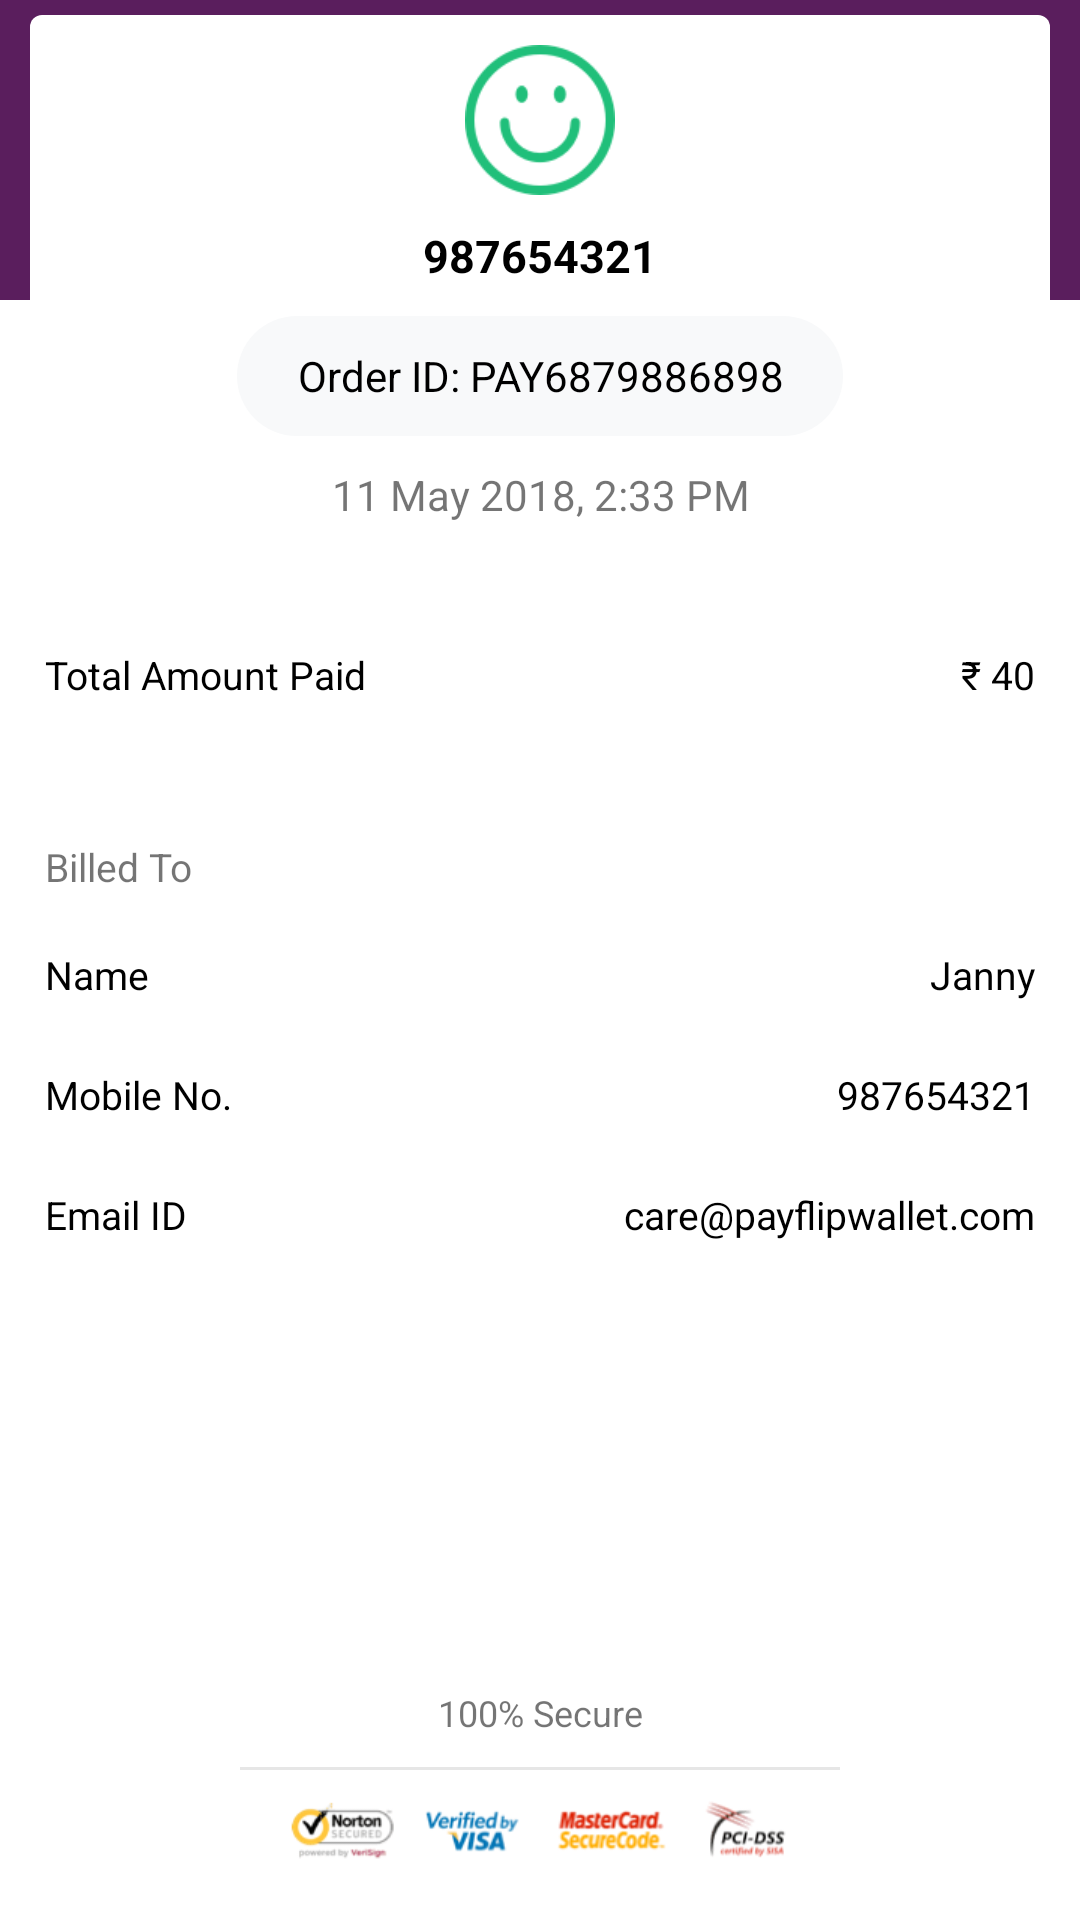

Screen size 1080×1920. Icon name, then its center in pixels as (x=x, y=y):
order successful: (x=540, y=120)
